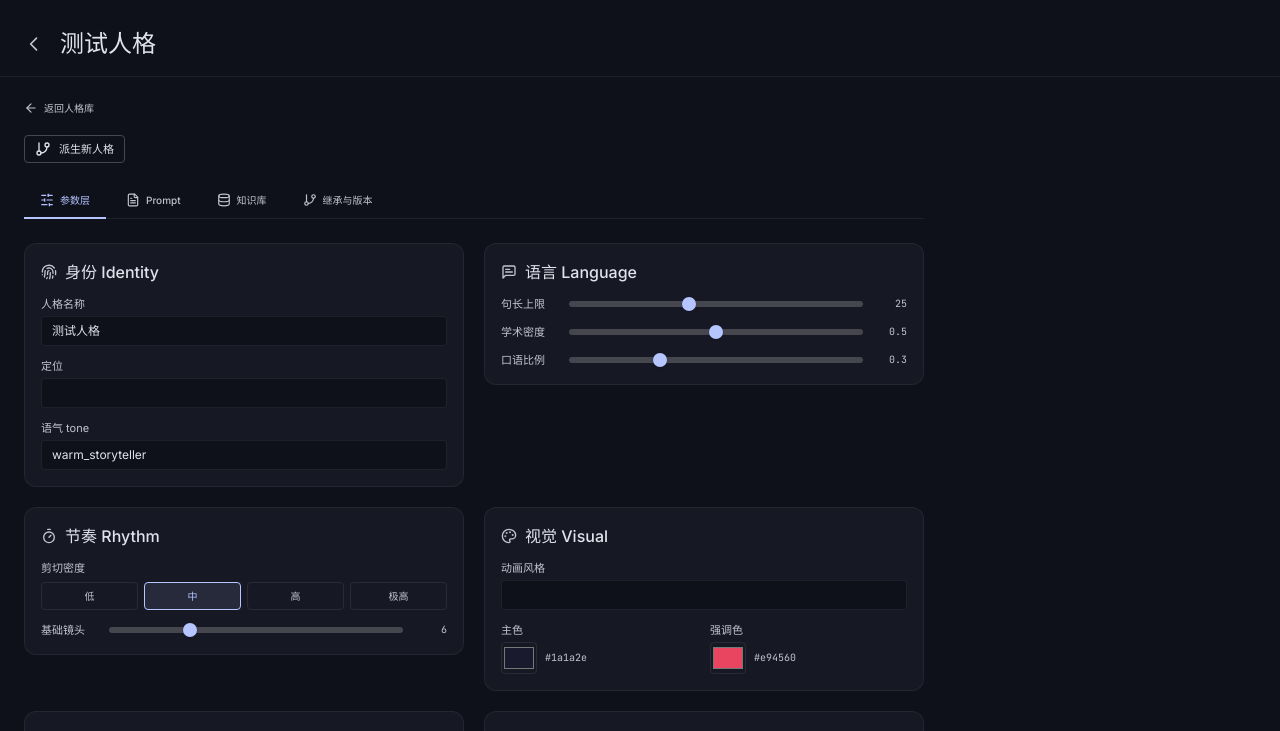
Test: PersonaDetailPage vision_prompt › loads vision prompt and renders a second textarea in the Prompt tab
The image size is (1280, 731).
Click the button "Prompt" at (153, 201), box [110,183,197,219]
(page scrolled)
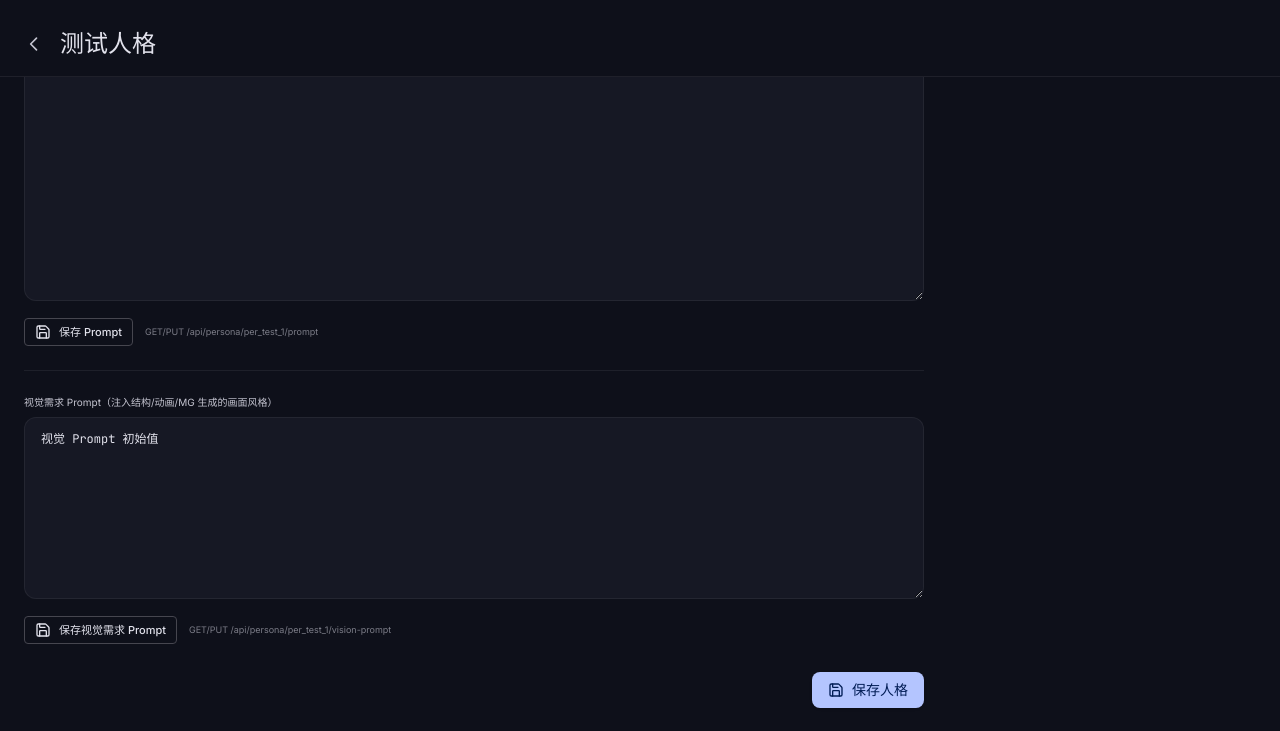
expect the number of text boxes is 2: met, box [24,77,924,301]; [24,417,924,599]
expect the 2nd text box holds "视觉 Prompt 初始值": met, box [24,417,924,599]
expect the text "视觉需求 Prompt（注入结构/动画/MG 生成的画面风格）" is shown: met, box [24,396,278,408]
